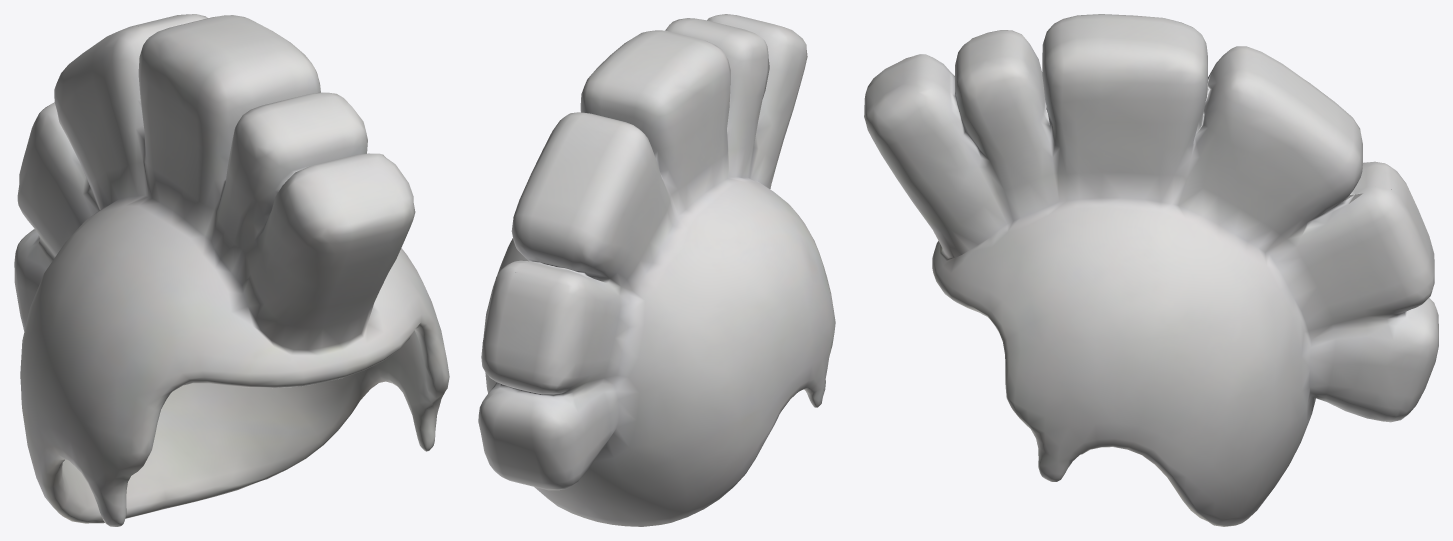
Rendered from hair_mohawk.glb.
3 views of the same model, side by side, from view 1: azimuth 30°, elevation 25°; view 2: azimuth 150°, elevation 25°; view 3: azimuth 270°, elevation 25° (orthographic). The views are drawn at different scales.
Parts seen in each view (by area): view 1: geometry_0; view 2: geometry_0; view 3: geometry_0.
Part boxes in pixels (left/top/right/bottom): geometry_0: left=14, top=14, right=449, bottom=526; geometry_0: left=478, top=14, right=835, bottom=526; geometry_0: left=864, top=14, right=1438, bottom=526.
Bounding box in the file's own units: 0.6108 × 0.8701 × 0.9556.
1 material, 1 textured.
